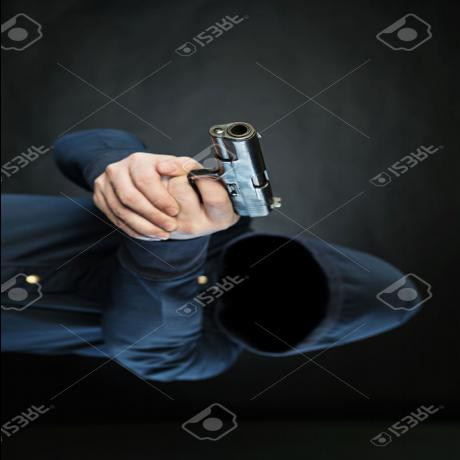1: (9, 186, 428, 356)
weapon: (157, 120, 282, 218)
